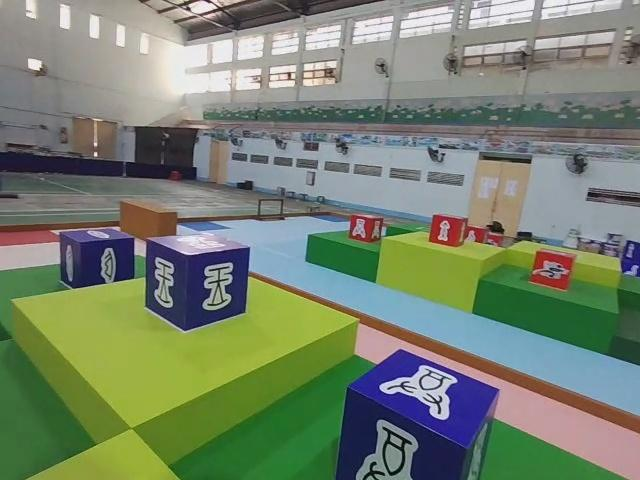R2 Real Blue: (340, 352, 501, 480), (146, 235, 252, 333), (58, 229, 136, 292)
